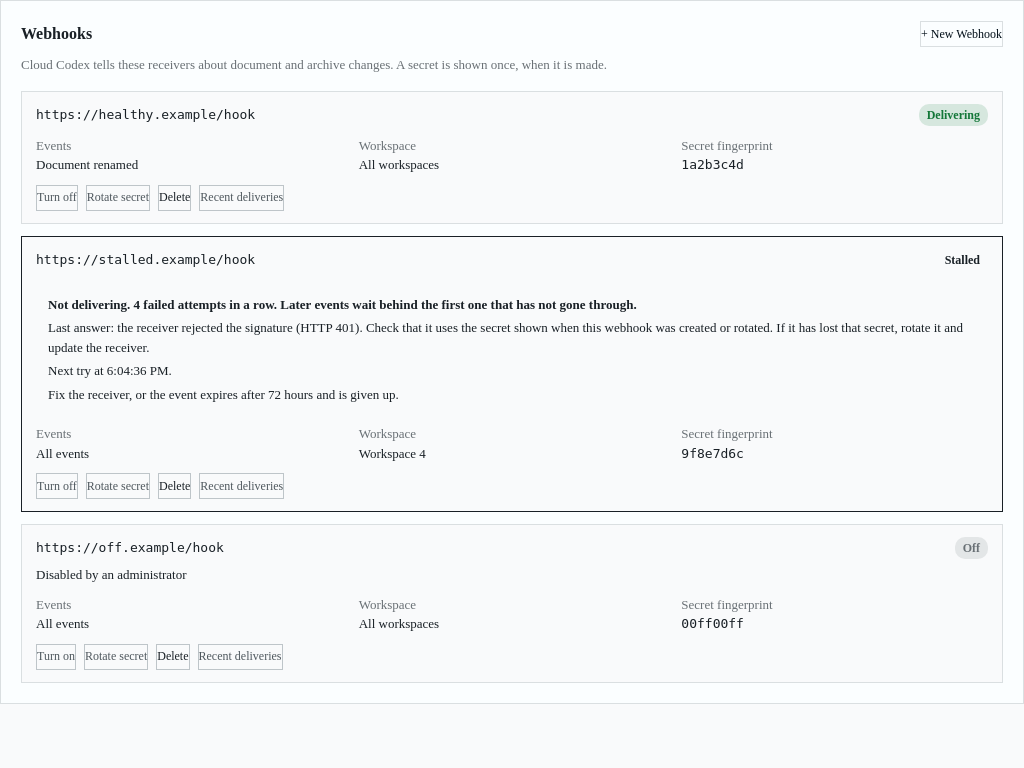
Test: WebhooksPanel: create › creates with the URL, the chosen events and the workspace, and shows the new secret once
Expected: the text "https://healthy.example/hook" is shown, [36,105,255,124]
Click the button "+ New Webhook" at (962, 34), box [920,21,1003,47]
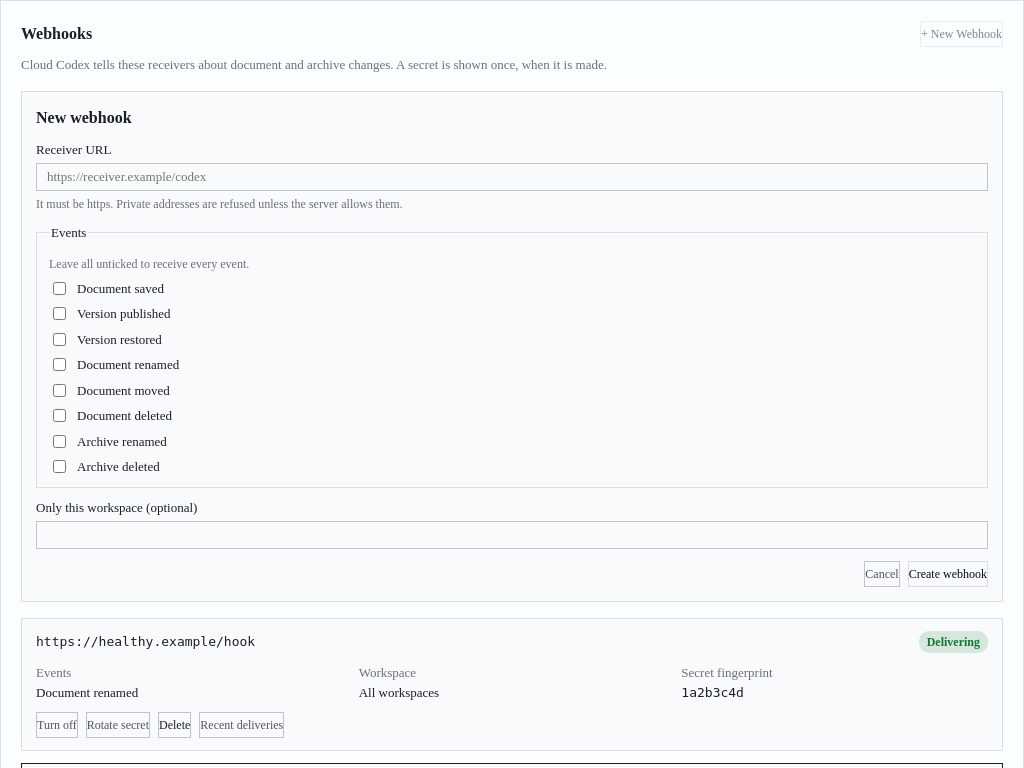
Type "https://new.example/hook" into the field labelled "Receiver URL" at (512, 177), box [36,163,988,191]
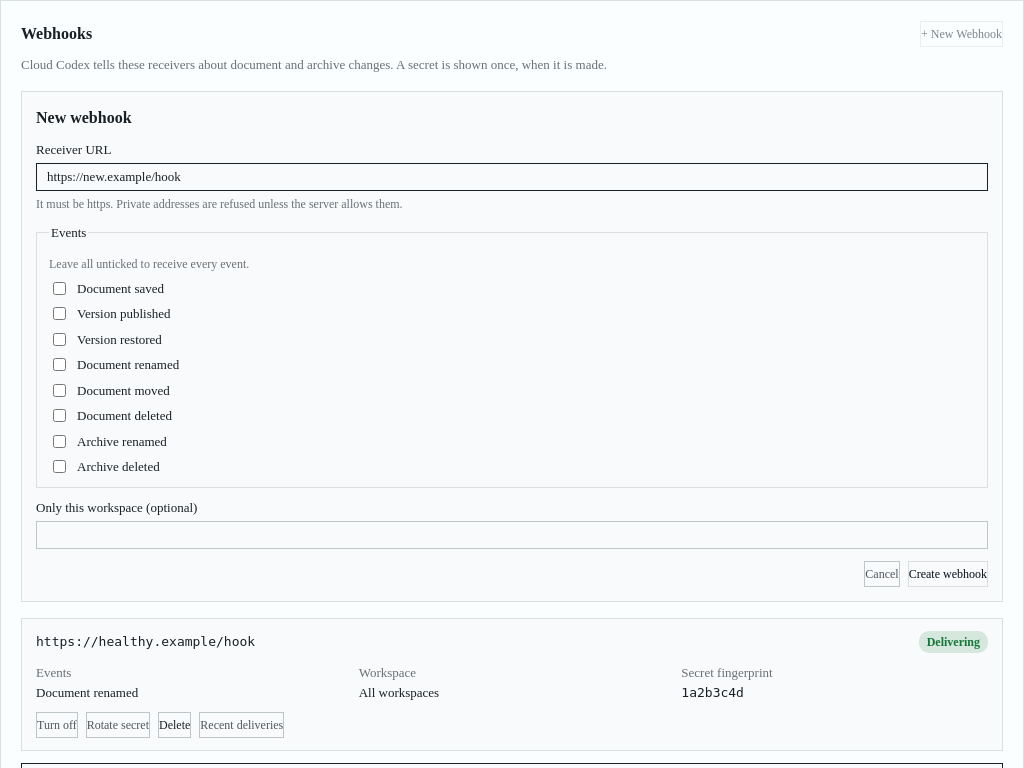
Click the checkbox labelled "Document renamed" at (60, 365), box [53,358,66,371]
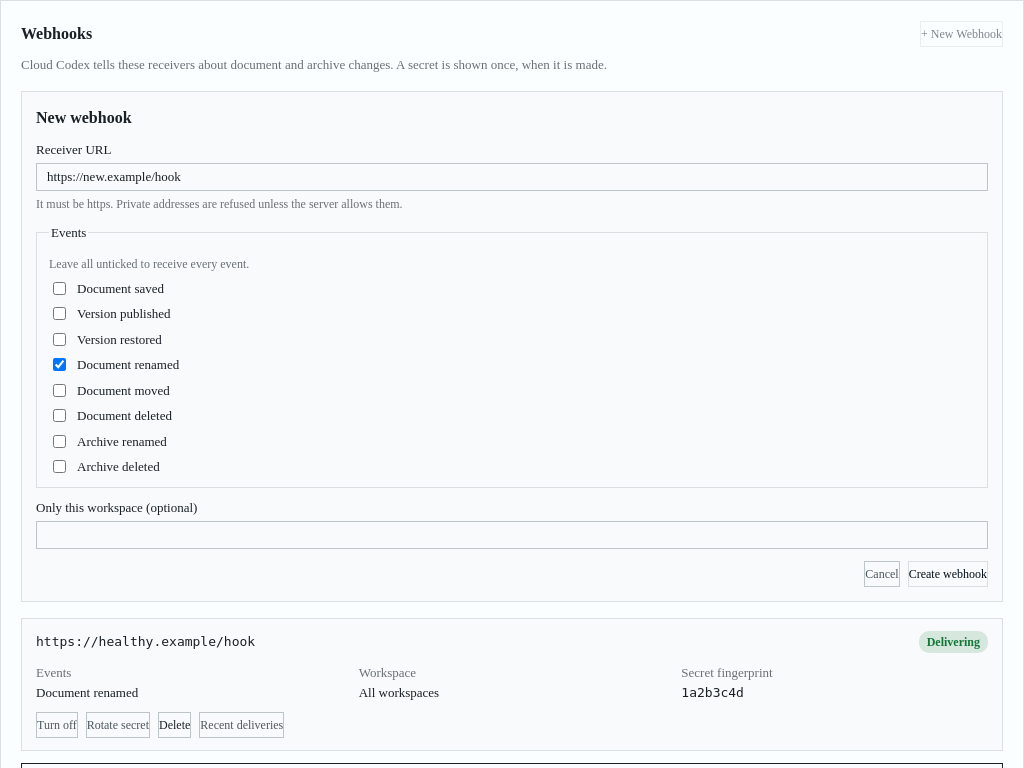
Type "4" into the number field labelled "Only this workspace (optional)" at (512, 535), box [36,521,988,549]
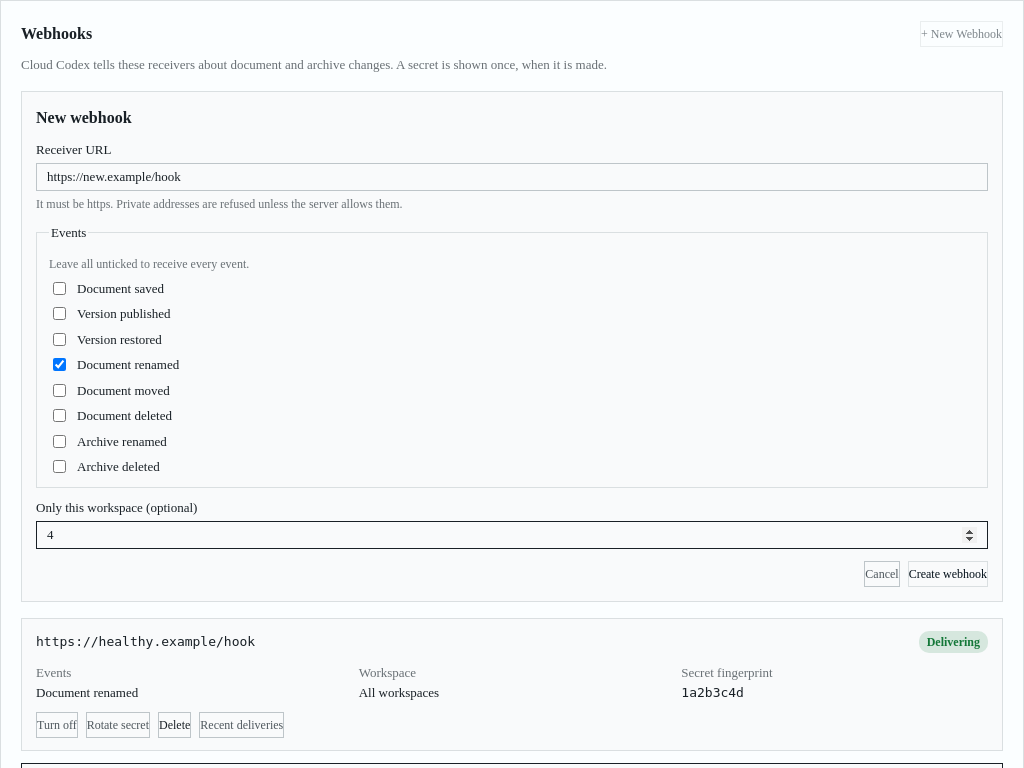
Click the button "Create webhook" at (948, 574), box [908,561,988,587]
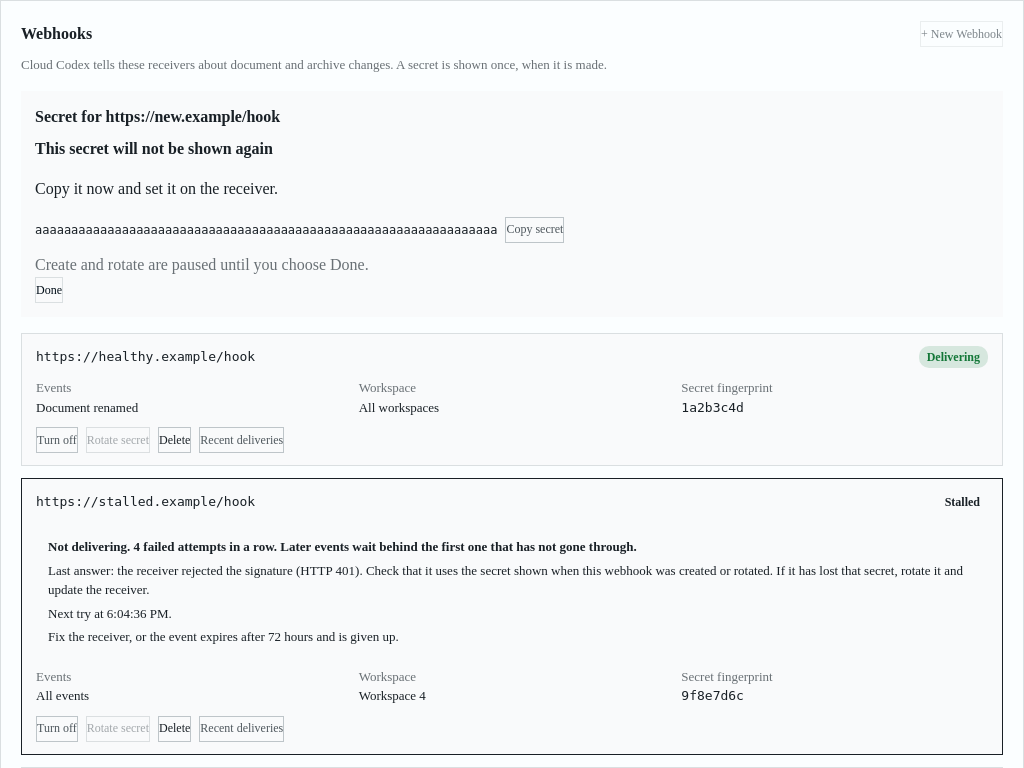
Expected: the text "aaaaaaaaaaaaaaaaaaaaaaaaaaaaaaaaaaaaaaaaaaaaaaaaaaaaaaaaaaaaaaaa" is shown, [35,220,497,238]
Expected: the text "This secret will not be shown again" is shown, [35,140,273,156]
Expected: the button "Copy secret" is shown, [505,216,564,242]
